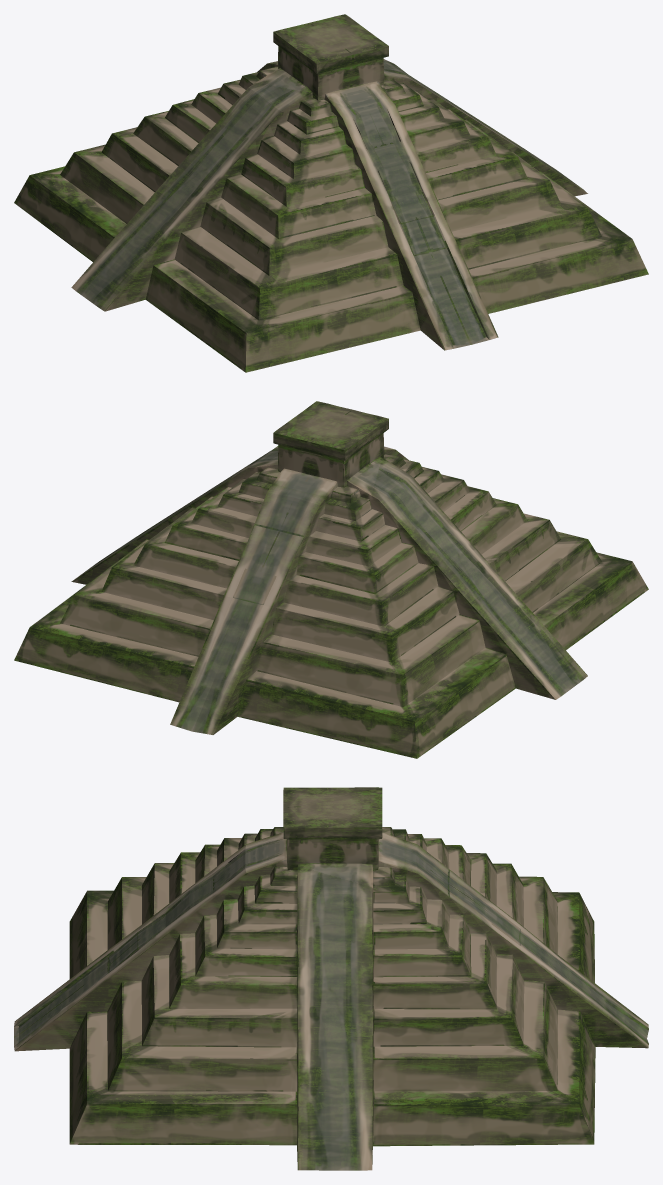
The model's file is piramidecentered.glb.
3 renders of one model, top to bottom at view 1: azimuth 30°, elevation 25°; view 2: azimuth 150°, elevation 25°; view 3: azimuth 270°, elevation 25°, orthographic. The views are drawn at different scales.
Visible parts, largest first — view 1: RetopoFlow_2; view 2: RetopoFlow_2; view 3: RetopoFlow_2.
Boxes of the visible parts, x1=… form: RetopoFlow_2: x1=14, y1=14, x2=648, y2=372; RetopoFlow_2: x1=14, y1=401, x2=648, y2=758; RetopoFlow_2: x1=14, y1=787, x2=648, y2=1170.
Bounding box in the file's own units: 2.07 × 0.8353 × 2.07.
Materials: 1 (1 with a texture image).
